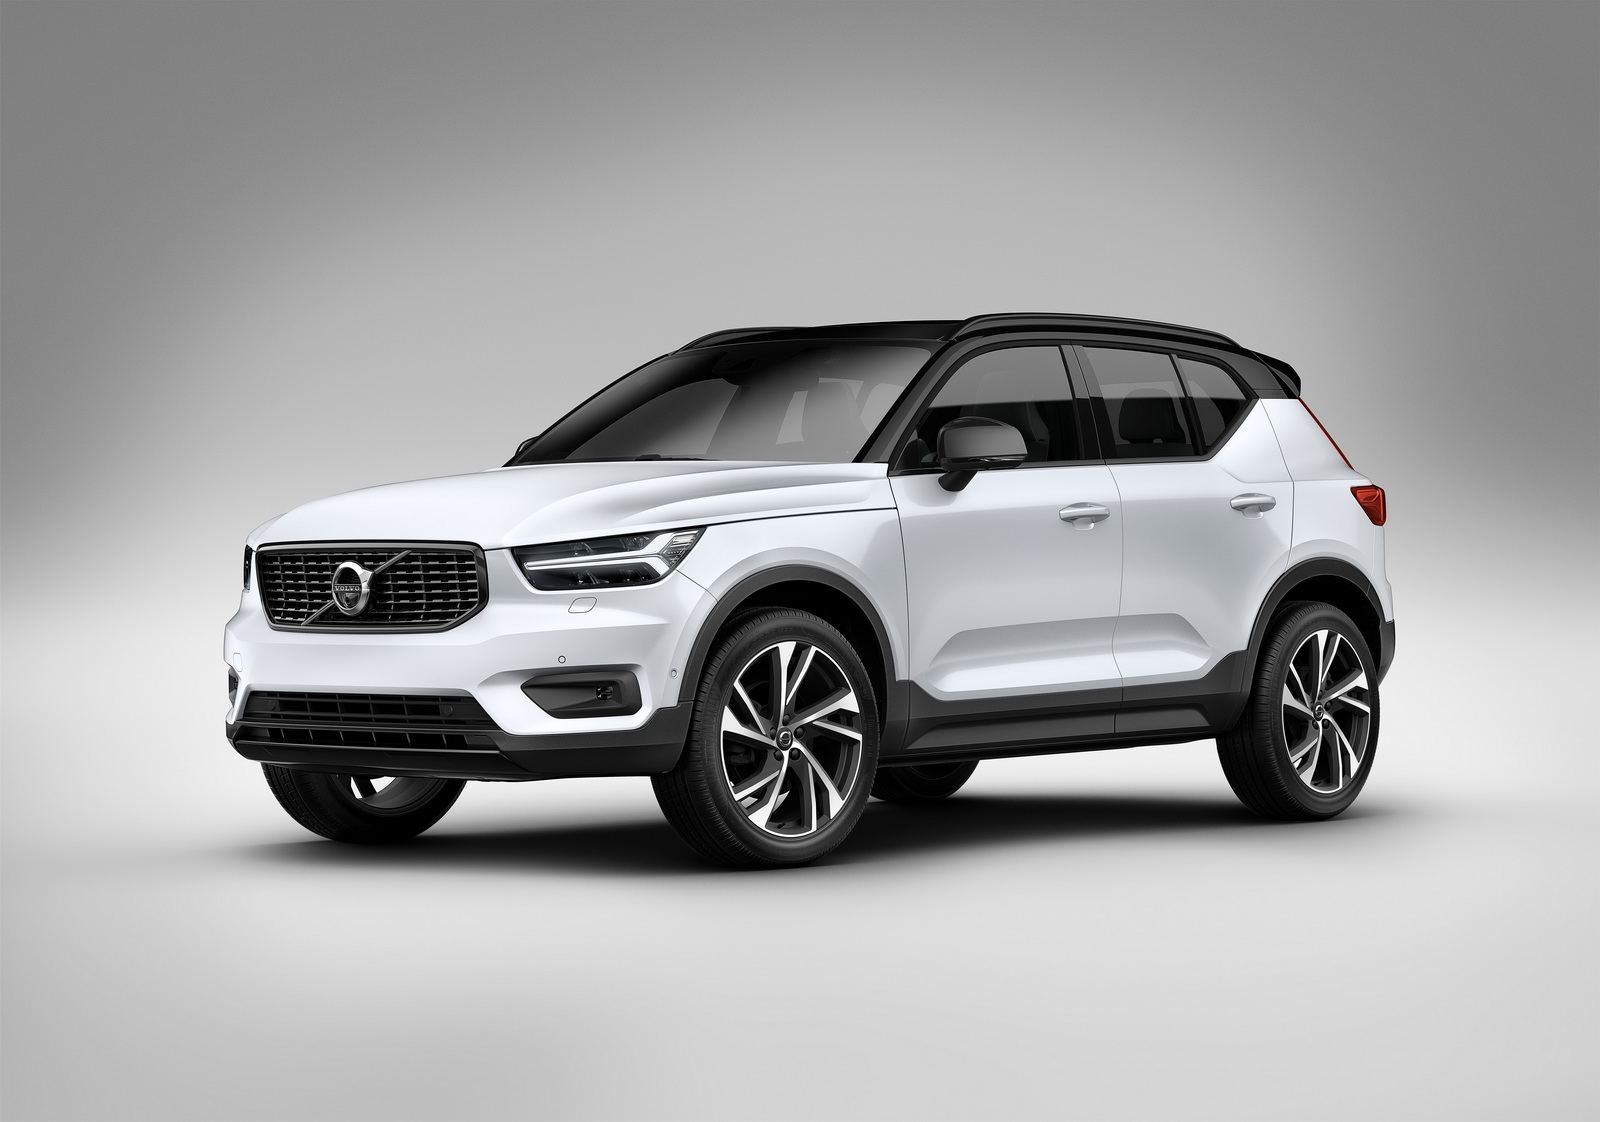Carro: (205, 301, 1401, 878)
